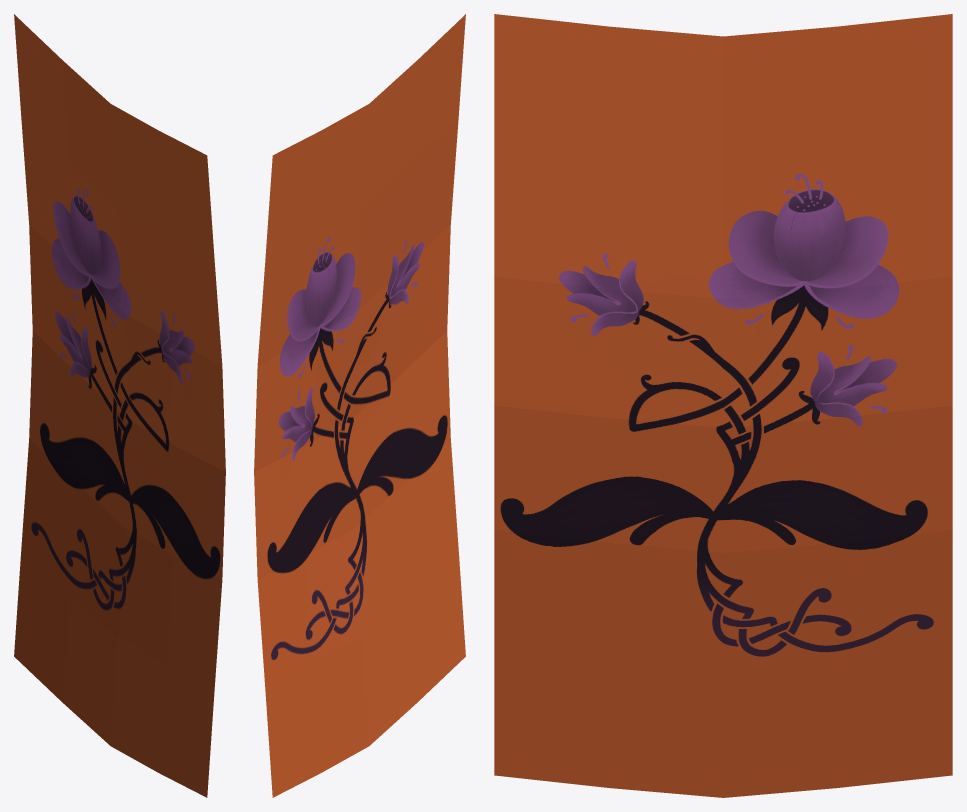
Rendered from Tapestry.fbx.
The picture shows the model from 3 angles, left to right: view 1: azimuth 30°, elevation 25°; view 2: azimuth 150°, elevation 25°; view 3: azimuth 270°, elevation 25°; orthographic projection. The views are drawn at different scales.
Visible parts, largest first — view 1: Plane; view 2: Plane; view 3: Plane.
Part boxes in pixels (x1,y1,x2,y2): Plane: [14, 14, 225, 797]; Plane: [254, 14, 465, 797]; Plane: [494, 14, 952, 797].
Bounding box in the file's own units: 1.83 × 61.77 × 32.71.
